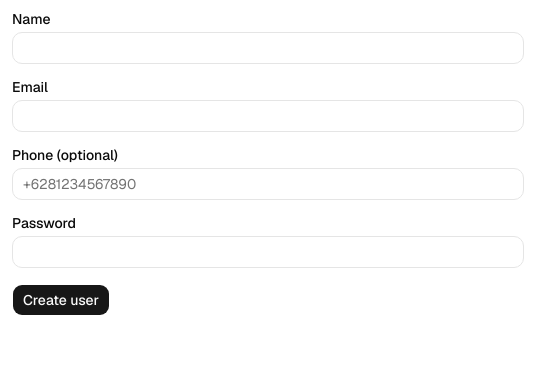
CreateUserForm › shows a conflict message from the backend
Type "Andi" into the field labelled "Name". click: (268, 48)
box: [12,32,524,64]
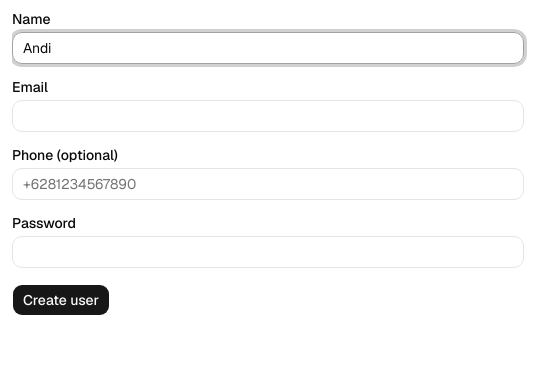
Type "andi@example.com" into the field labelled "Email". click: (268, 116)
box: [12,100,524,132]
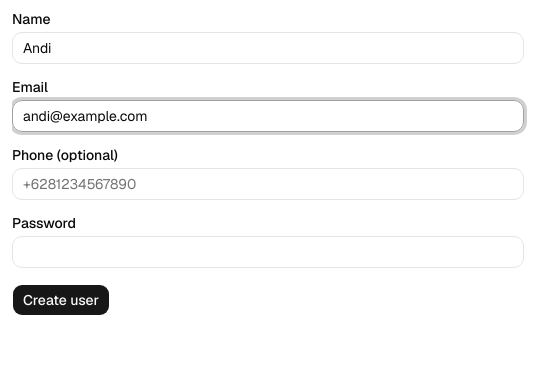
Type "Password123!" into the password field labelled "Password". click: (268, 252)
box: [12,236,524,268]
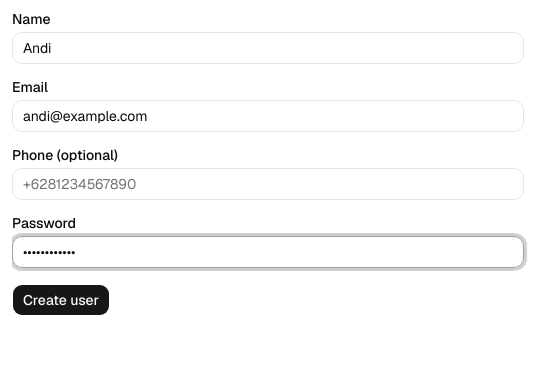
Click the button "Create user". click: (61, 300)
box: [12,284,110,316]
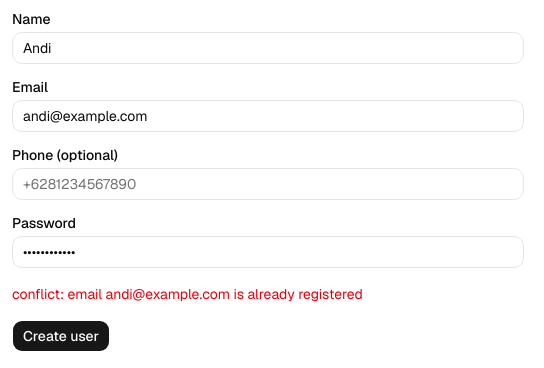
Expected: the message shows "already registered", [12,285,363,303]
